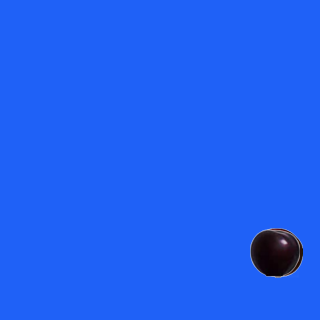Apple Braeburn: (252, 227, 302, 277)
Cherry Wax Black: (249, 227, 299, 277)
